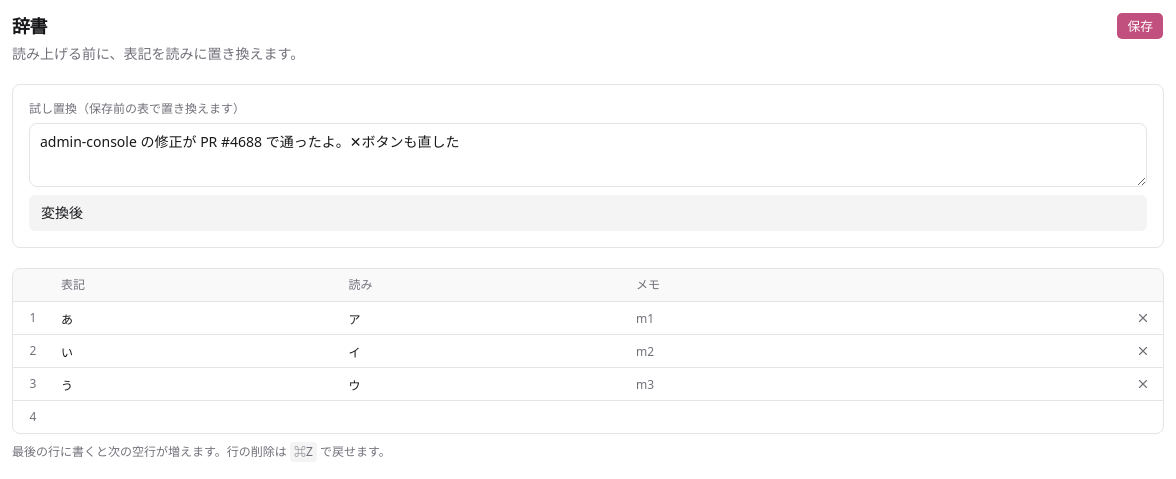
Test case: 表を編集するとプレビューを取り直す
Expected: the text "変換後" is shown, 29,195 -> 1147,231
Replace the text in the field showing "ア" with "A" at coordinates (484, 318), box 340,302 -> 628,334
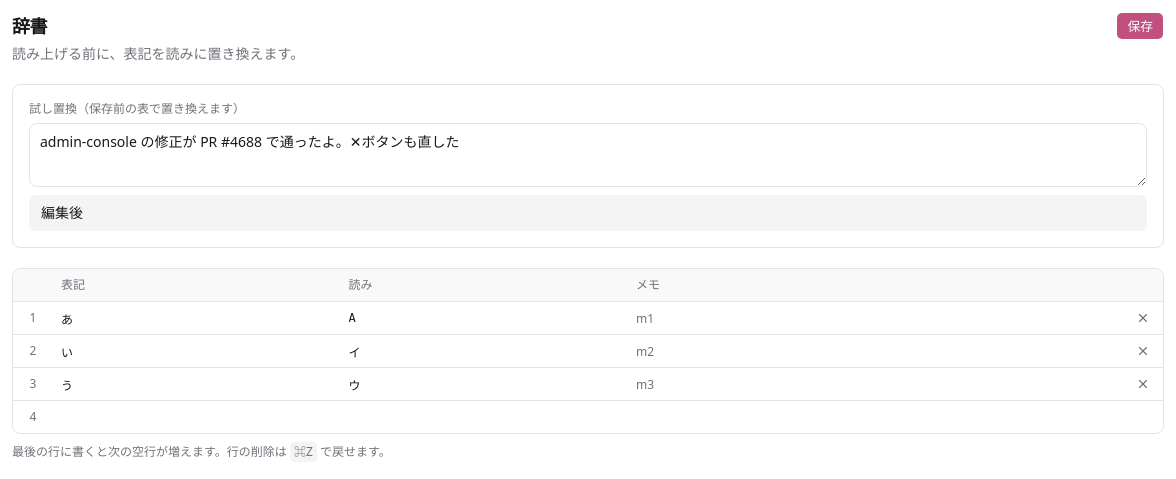
Now the text "編集後" is shown, box 29,195 -> 1147,231
